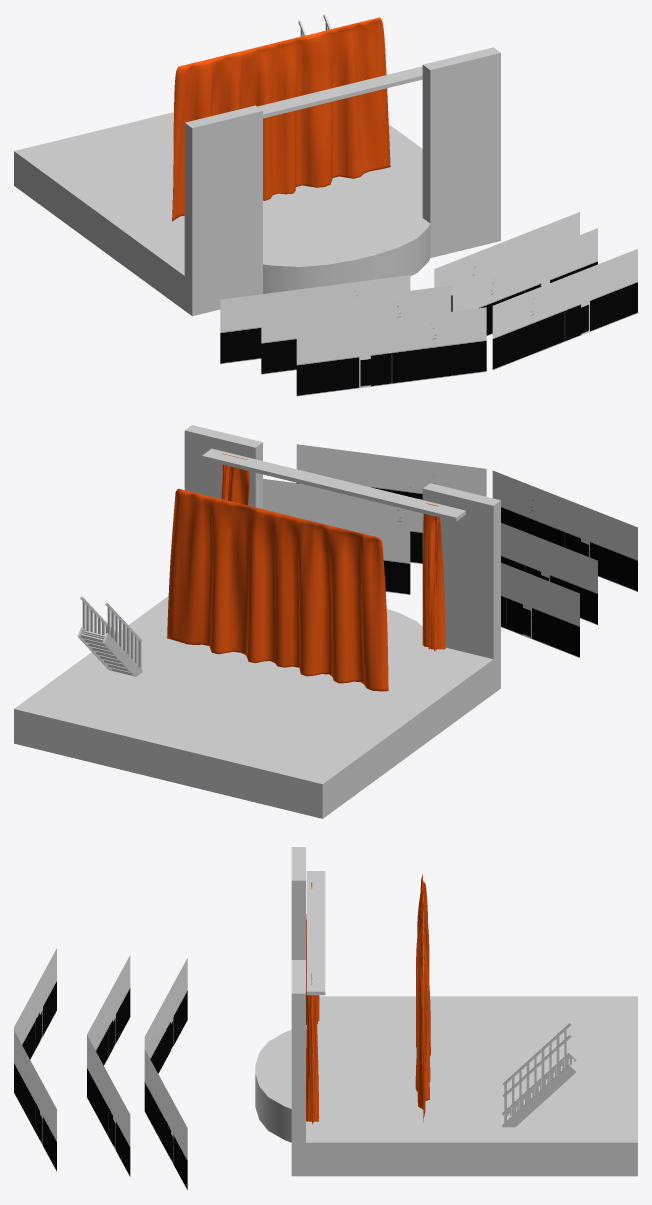
Rendered from Scenary vacio.fbx.
3 views of the same model, one above another, from view 1: azimuth 30°, elevation 25°; view 2: azimuth 150°, elevation 25°; view 3: azimuth 270°, elevation 25° (orthographic). The views are drawn at different scales.
Parts seen in each view (by area): view 1: Teatro base, Telon Atras, publico().002, publico().001, publico(), cuerda telon; view 2: Teatro base, Telon Atras, publico().002, publico().001, publico(), cuerda telon, escalera, Telon izquierda, Telon derecha; view 3: Teatro base, publico(), publico().001, publico().002, escalera, Telon Atras, cuerda telon, Telon derecha.
Boxes of the visible parts, left/top/right/bottom form: Teatro base: left=14, top=47, right=500, bottom=316; Telon Atras: left=172, top=17, right=390, bottom=221; publico().002: left=296, top=249, right=637, bottom=396; publico().001: left=261, top=228, right=597, bottom=374; publico(): left=220, top=212, right=579, bottom=364; cuerda telon: left=257, top=66, right=422, bottom=118; Teatro base: left=14, top=425, right=500, bottom=818; Telon Atras: left=167, top=488, right=388, bottom=691; publico().002: left=296, top=444, right=637, bottom=591; publico().001: left=263, top=479, right=597, bottom=624; publico(): left=282, top=513, right=579, bottom=657; cuerda telon: left=202, top=448, right=465, bottom=521; escalera: left=77, top=596, right=142, bottom=676; Telon izquierda: left=422, top=503, right=445, bottom=651; Telon derecha: left=221, top=453, right=249, bottom=505; Teatro base: left=255, top=847, right=637, bottom=1176; publico(): left=144, top=958, right=187, bottom=1190; publico().001: left=87, top=955, right=130, bottom=1176; publico().002: left=14, top=948, right=56, bottom=1171; escalera: left=502, top=1023, right=576, bottom=1127; Telon Atras: left=415, top=874, right=430, bottom=1121; cuerda telon: left=306, top=871, right=325, bottom=995; Telon derecha: left=306, top=973, right=319, bottom=1124.
Size of the model in its own units: 1164 by 590 by 1801.
